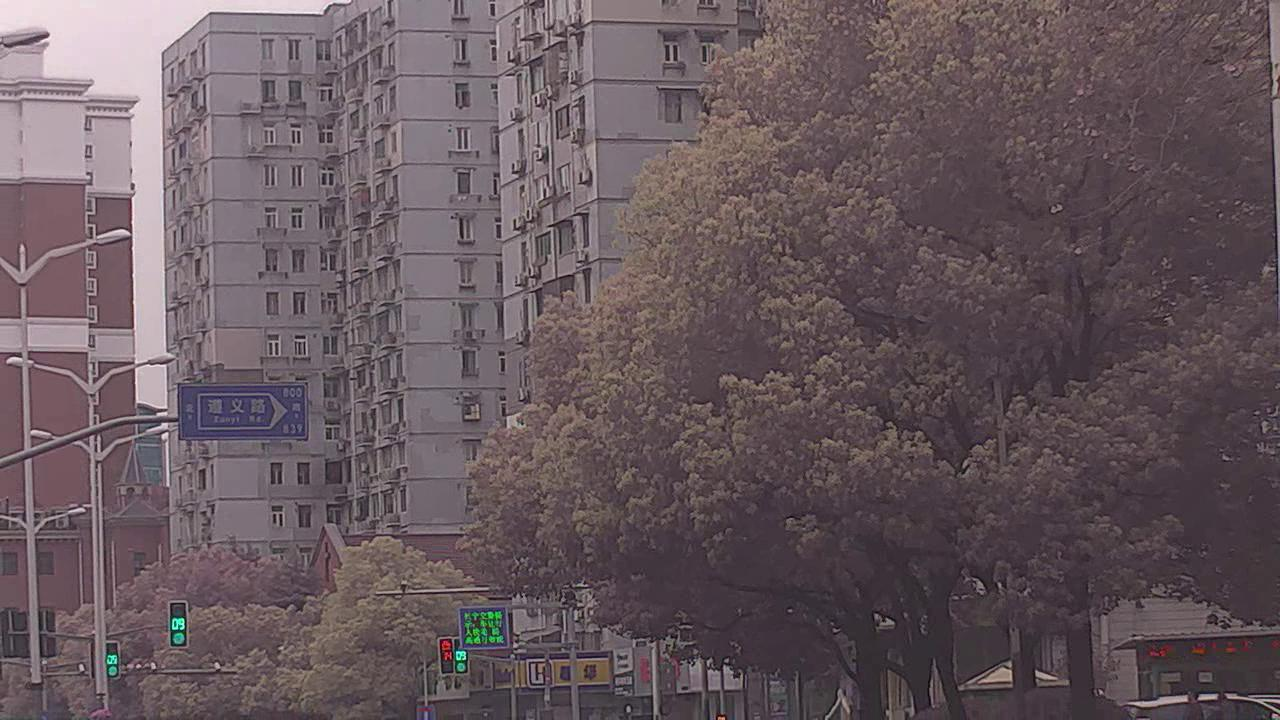traffic_light: (167, 599, 188, 647), (106, 638, 121, 676), (439, 636, 453, 675), (454, 641, 468, 672)
